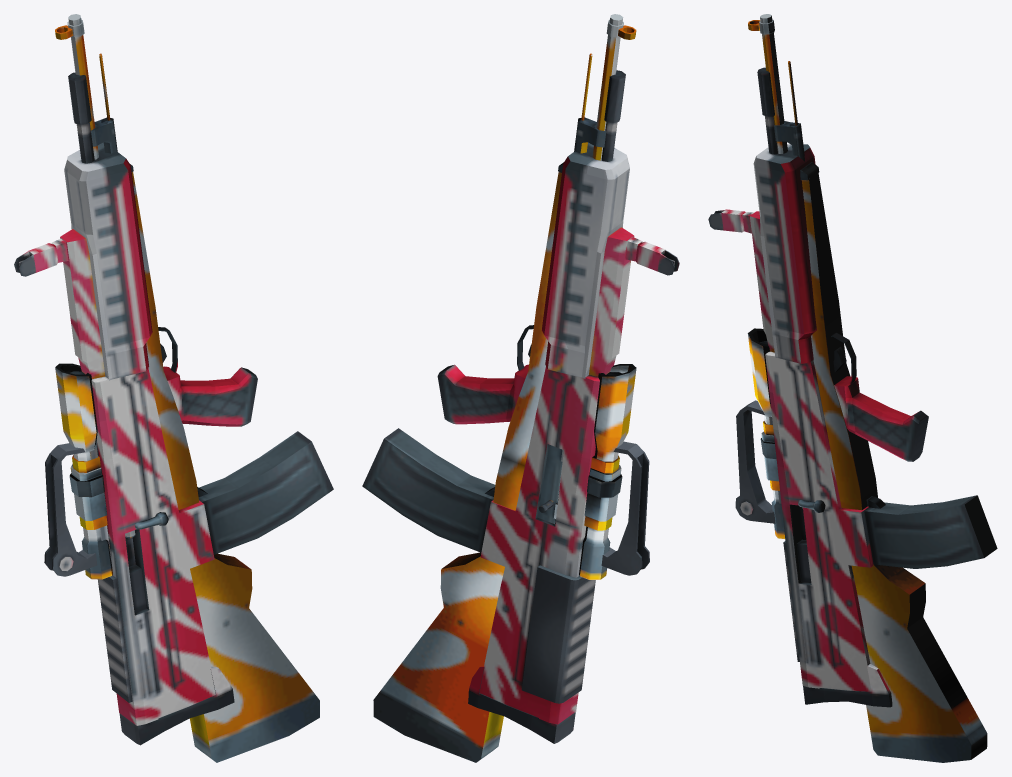
Rendered from Gun_Add_98k95.fbx.
The picture shows the model from 3 angles, left to right: view 1: azimuth 30°, elevation 25°; view 2: azimuth 150°, elevation 25°; view 3: azimuth 330°, elevation 25°; orthographic projection. The views are drawn at different scales.
Parts seen in each view (by area): view 1: gun_add_95, gun_add_98k; view 2: gun_add_95, gun_add_98k; view 3: gun_add_95, gun_add_98k.
Boxes of the visible parts, left/top/right/bottom form: gun_add_95: left=14, top=72, right=333, bottom=745; gun_add_98k: left=55, top=14, right=319, bottom=762; gun_add_95: left=362, top=70, right=679, bottom=743; gun_add_98k: left=373, top=14, right=636, bottom=762; gun_add_95: left=708, top=67, right=997, bottom=707; gun_add_98k: left=747, top=14, right=987, bottom=762.
Size of the model in its own units: 9.8 by 23.41 by 1.83.
